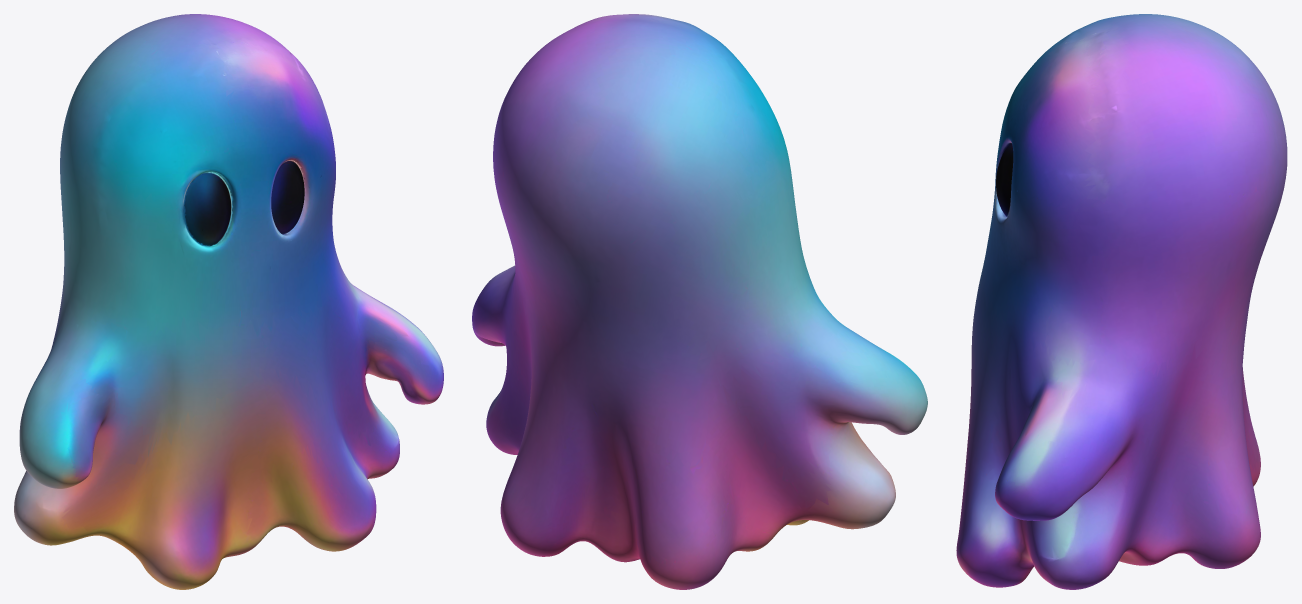
3 views of the same model, side by side, from view 1: azimuth 30°, elevation 25°; view 2: azimuth 150°, elevation 25°; view 3: azimuth 270°, elevation 25° (orthographic). The views are drawn at different scales.
Parts seen in each view (by area): view 1: tripo_node_6816041f-7a49-4716-8cdc-c601d6b36bd4; view 2: tripo_node_6816041f-7a49-4716-8cdc-c601d6b36bd4; view 3: tripo_node_6816041f-7a49-4716-8cdc-c601d6b36bd4.
Boxes of the visible parts, box(x1,y1,x2,y2) form: tripo_node_6816041f-7a49-4716-8cdc-c601d6b36bd4: box(14, 14, 443, 589); tripo_node_6816041f-7a49-4716-8cdc-c601d6b36bd4: box(472, 14, 927, 589); tripo_node_6816041f-7a49-4716-8cdc-c601d6b36bd4: box(956, 14, 1287, 589).
Size of the model in its own units: 0.8737 by 1 by 0.5705.
Materials: 1 (1 with a texture image).
